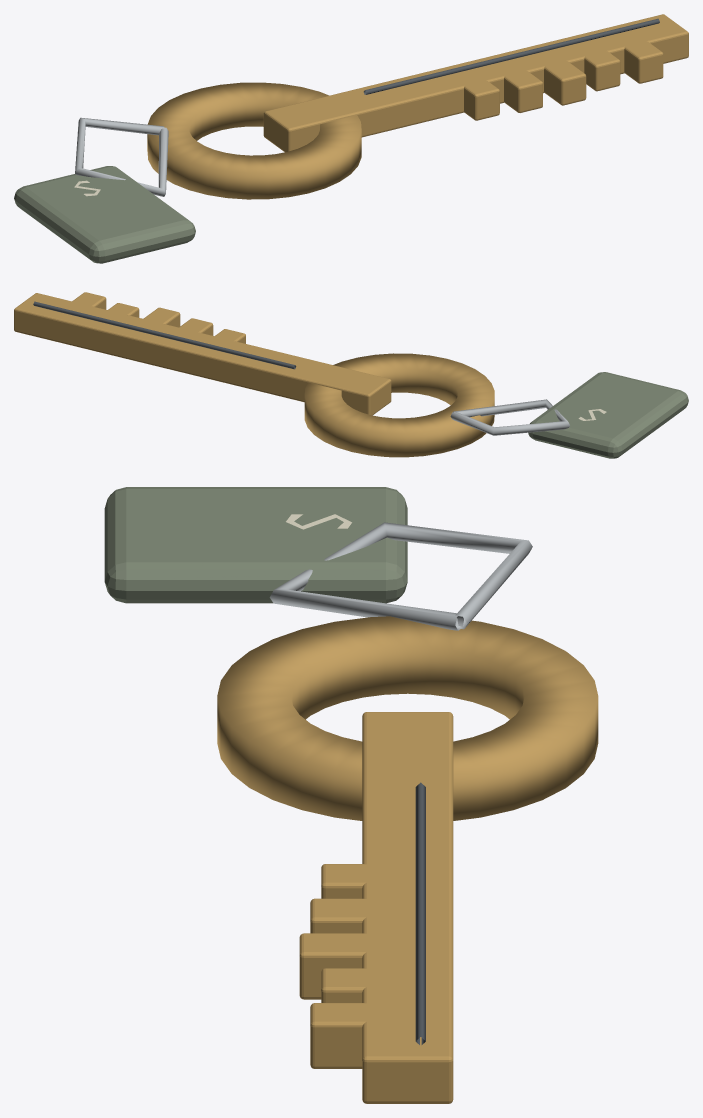
The model's file is service_key.glb.
3 views of the same model, one above another, from view 1: azimuth 30°, elevation 25°; view 2: azimuth 150°, elevation 25°; view 3: azimuth 270°, elevation 25° (orthographic). The views are drawn at different scales.
Parts seen in each view (by area): view 1: service_key; view 2: service_key; view 3: service_key.
Part boxes in pixels (x1,y1,x2,y2): service_key: (14, 14, 688, 263); service_key: (14, 292, 688, 458); service_key: (104, 487, 598, 1103).
Size of the model in its own units: 0.316 by 0.0207 by 0.114.
